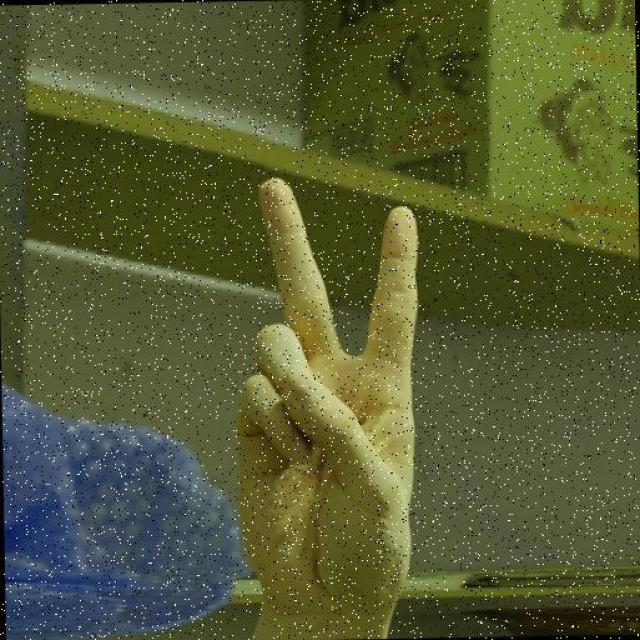V: (226, 170, 435, 606)
